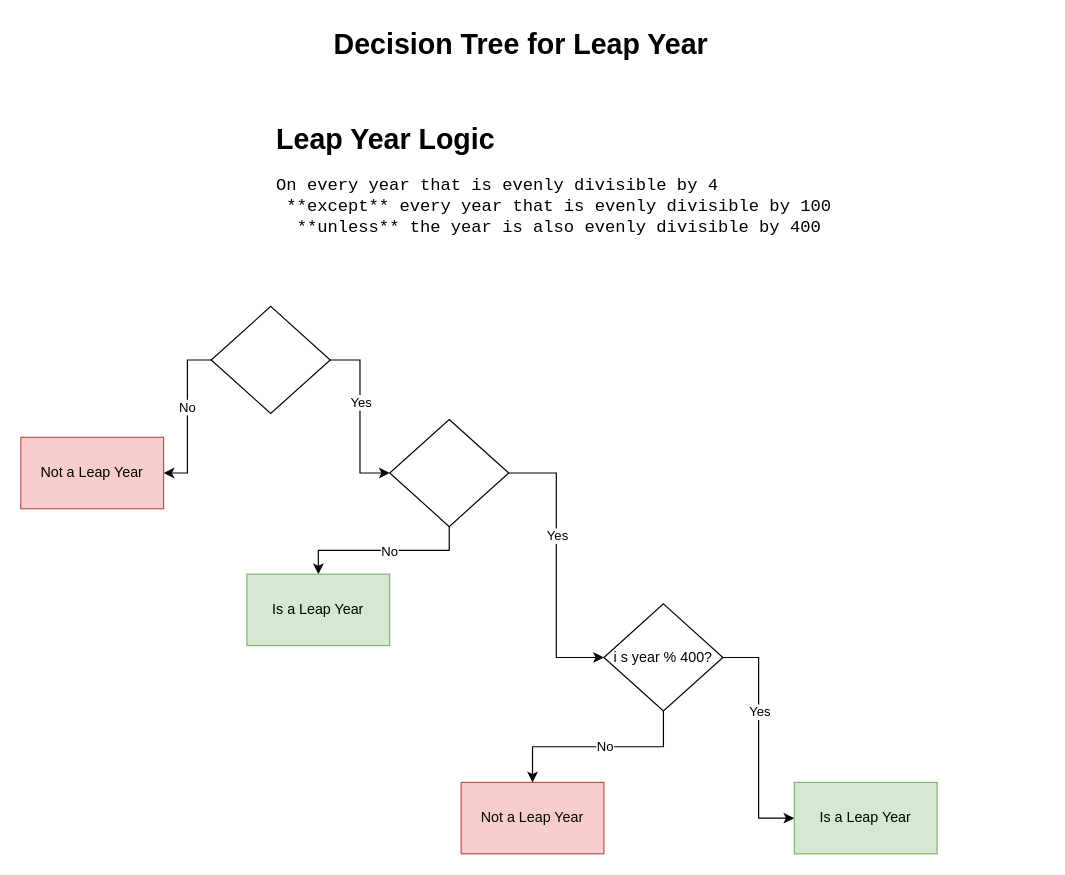
Image size: 1065x875. Some labels were removed from this diagram. The centre of each missing label's shape, as x and y in pixels:
"i s year % 100?" belongs at point 449,472.
"i s year % 4?" belongs at point 270,359.
